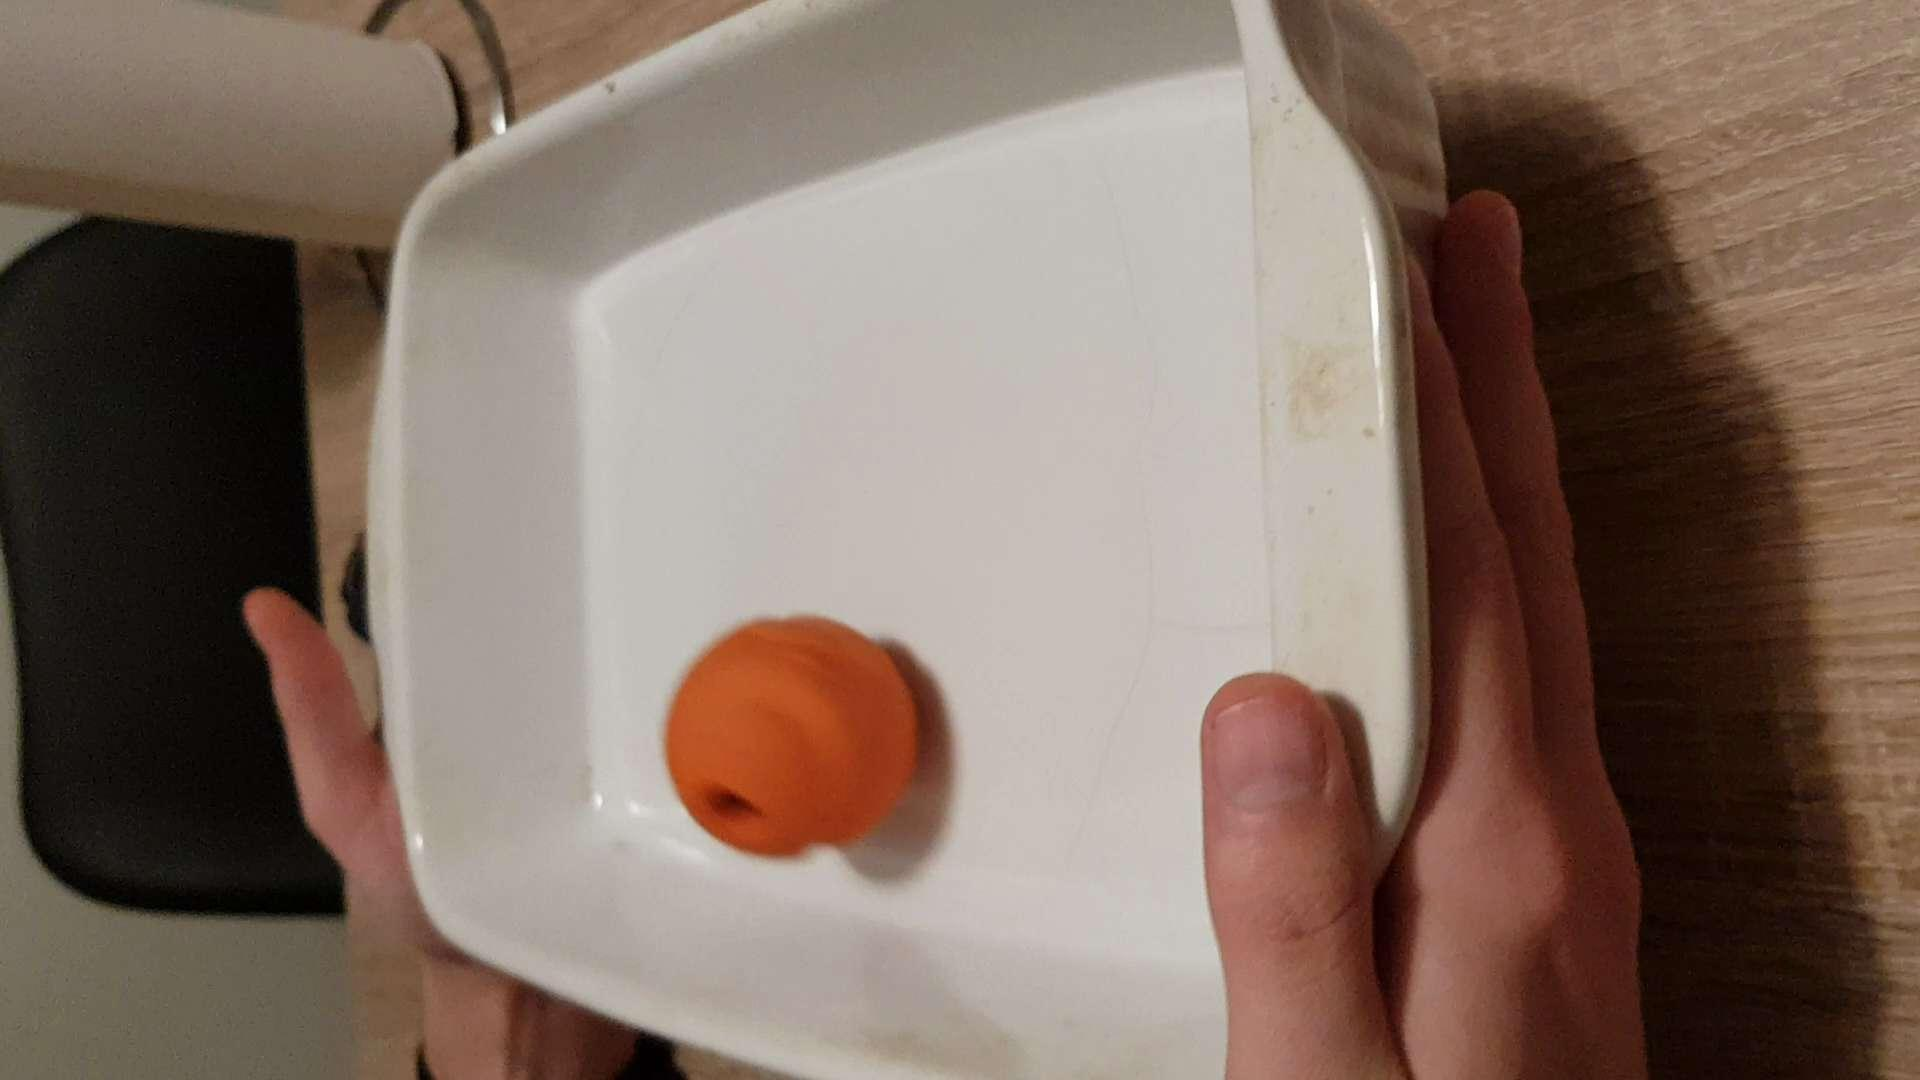sphere: (655, 603, 924, 864)
